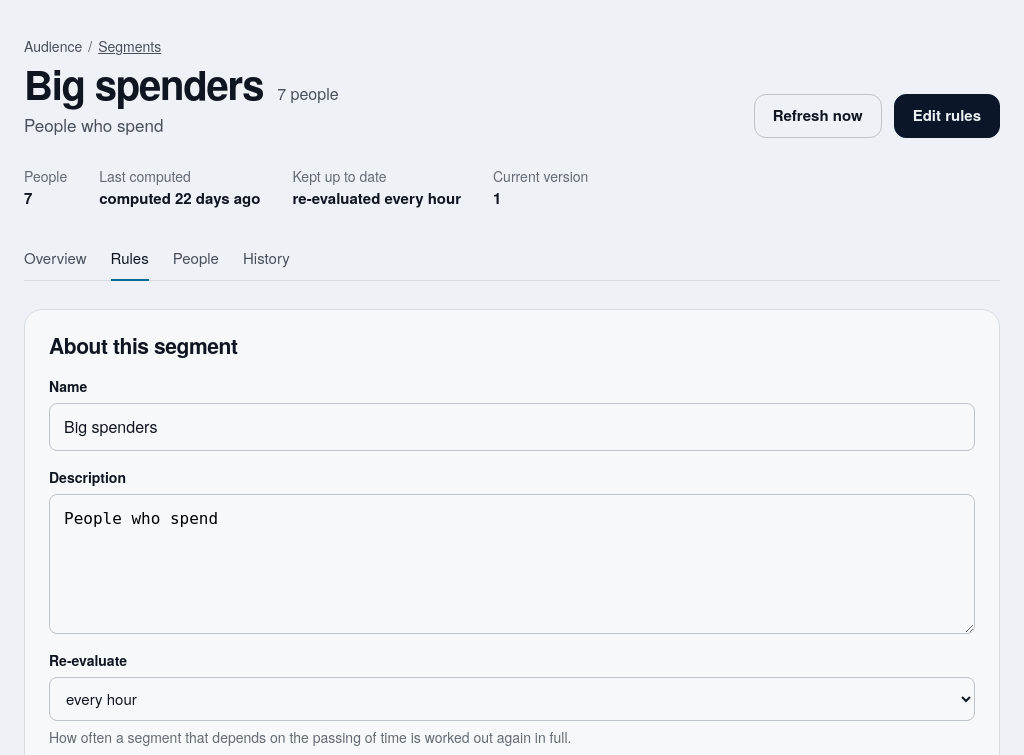
Test: saving a segment › updates only the header when the definition is untouched
Replace the text in the field labelled "Name" with "Renamed" at (512,426), box [49,402,975,450]
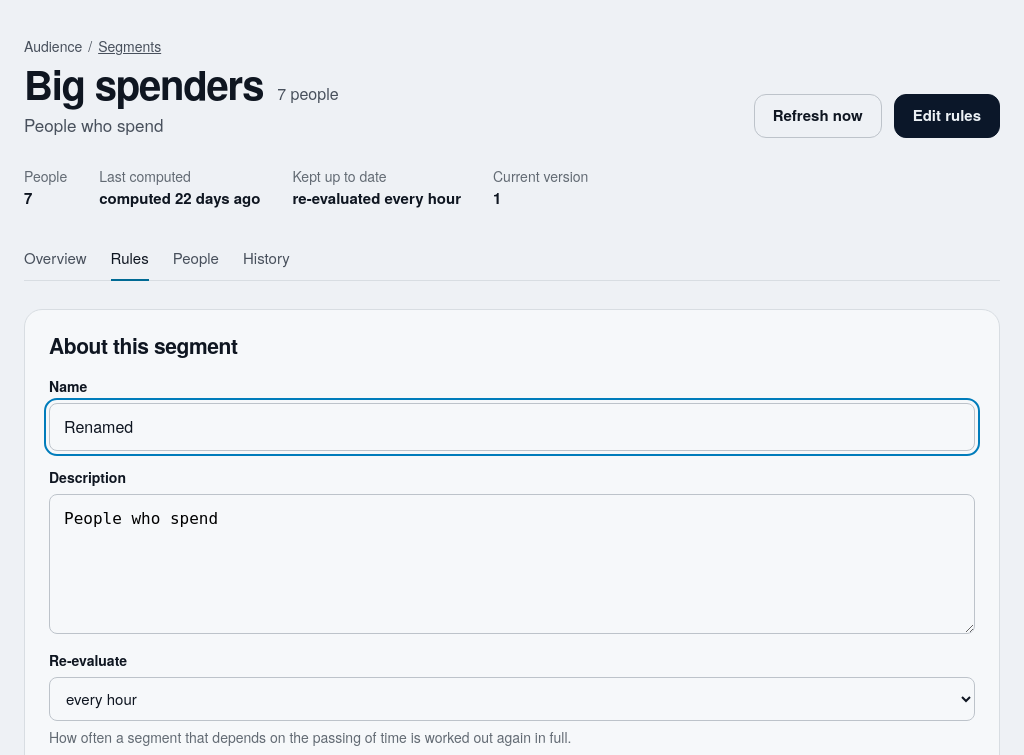
Select "every 30 minutes" in the dropdown labelled "Re-evaluate" at (512,698), box [49,676,975,720]
(page scrolled)
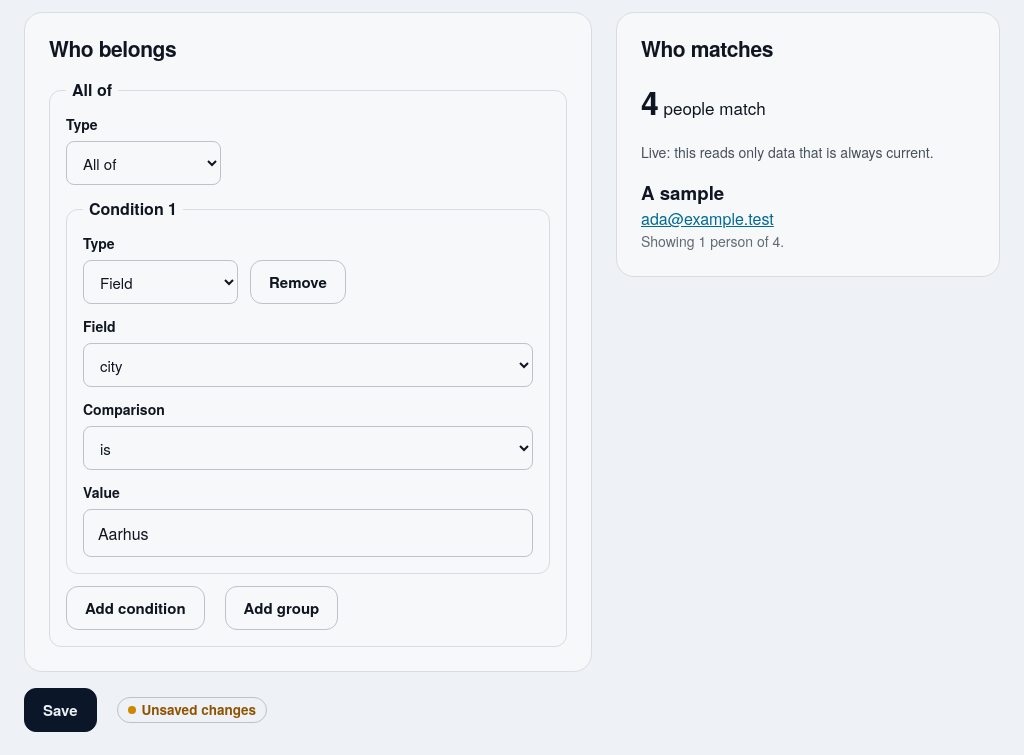
Click the button "Save".
click(60, 710)  # box [24,688,96,732]
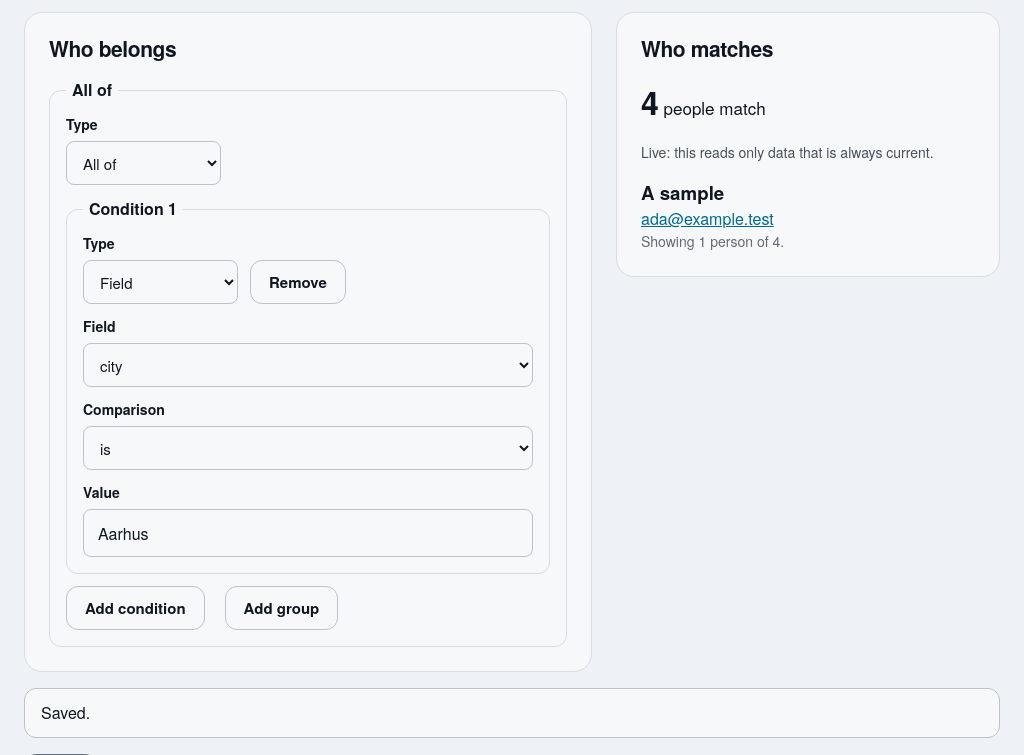
Expected: the text "Saved." is shown, [24,688,1000,738]
